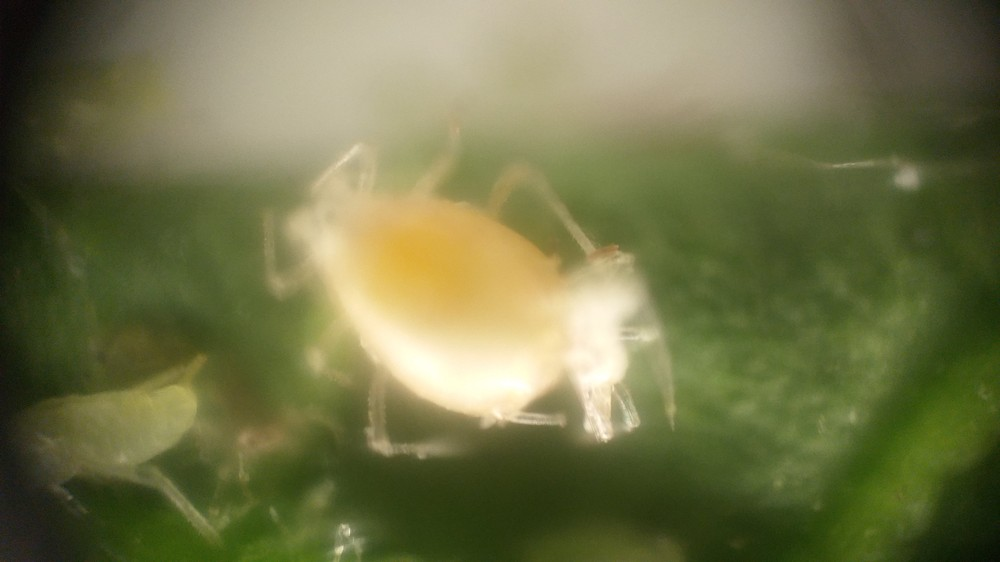Pulgon: (246, 144, 683, 468)
